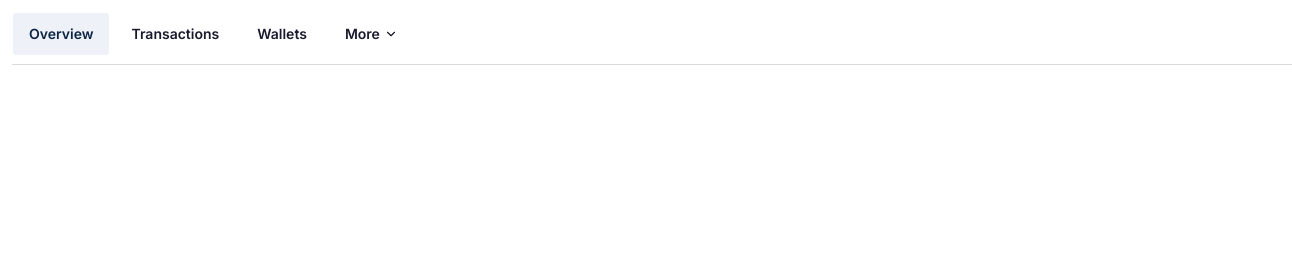
Test: FinanceNavigation › keeps Transfers reachable and shows the selected view
Click the button with aria-label "More finance views" at (371,34), box [328,12,415,56]
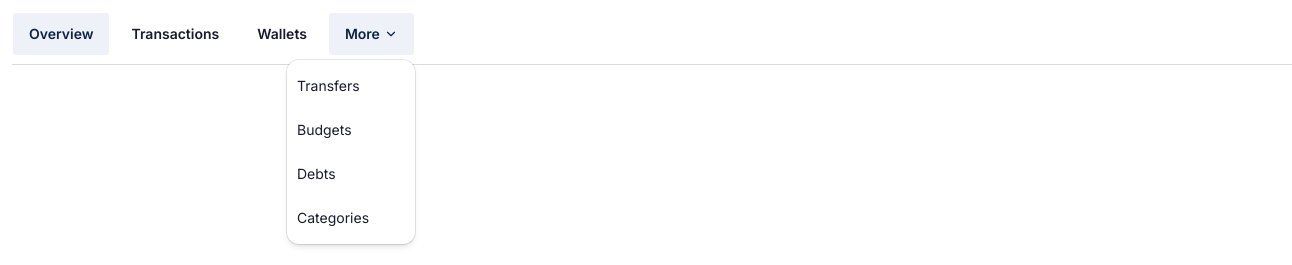
Click the menu item "Transfers" at (328,86), box [297,77,360,94]
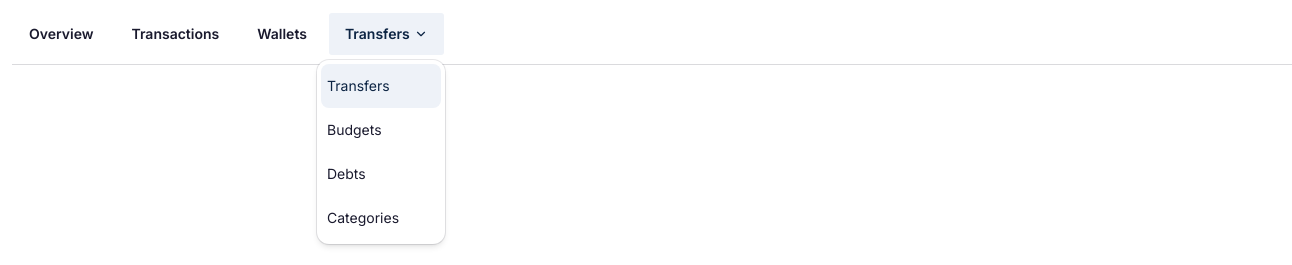
Click the button "Transactions" at (175,34), box [114,12,236,56]
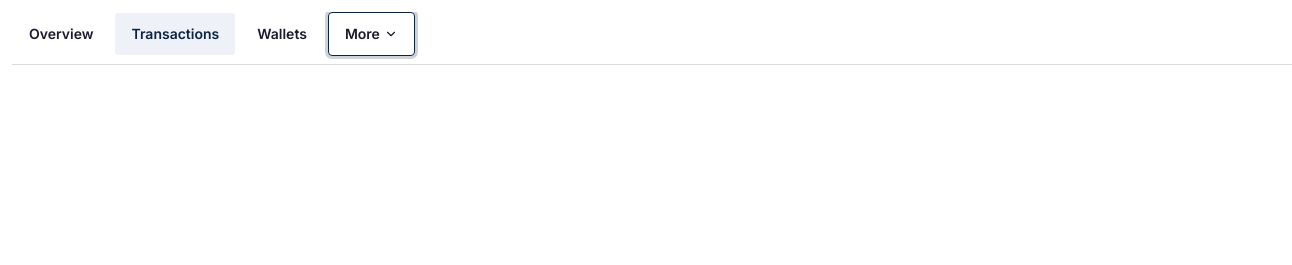
Expected: the button with aria-label "More finance views" is shown, [328,12,415,56]
